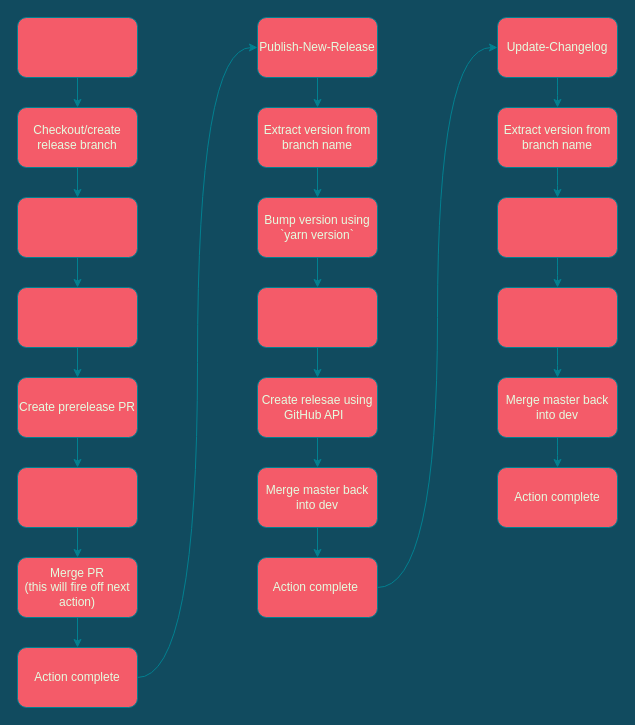
Image size: 635x725. Some labels were removed from this diagram. Here are the shapes that lost their labels. From the top down, the centre of each, then its label:
At [77,47]: "Draft-New-Release".
At [77,227]: "Update unreleased changelog via yarn commands".
At [557,227]: "Update changelog via yarn commands".
At [77,317]: "Push the new branch to GitHub".
At [317,317]: "Push tags to GitHub".
At [557,317]: "Commit and push up changes to GitHub".
At [77,497]: "Add unreleased changelog as comment".
